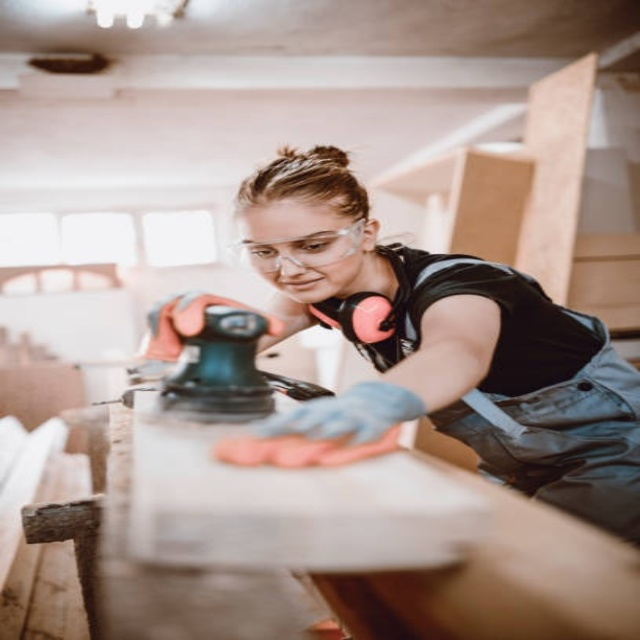Gafas: (230, 218, 367, 273)
Guantes: (237, 378, 429, 452), (140, 291, 286, 362)
Sin_mascara: (275, 276, 331, 301)
